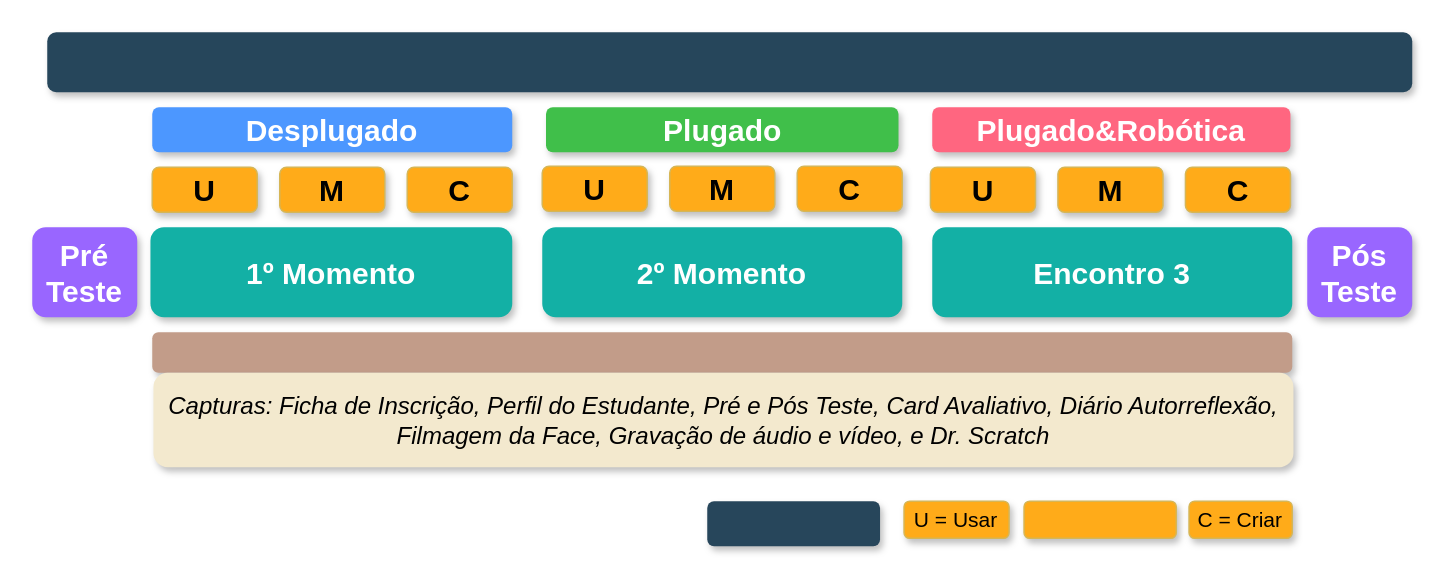
The diagram is 1448 pixels wide and 582 high, and some of its shapes have lost their labels. Here are the shapes that lost their labels. From the top down, the centre of each, then its label:
At [730,64]: "Configuração do Experimento".
At [723,354]: "Sequência, Repetição e Condicional".
At [794,525]: "LEGENDAS".
At [1101,521]: "M = Modificar".
